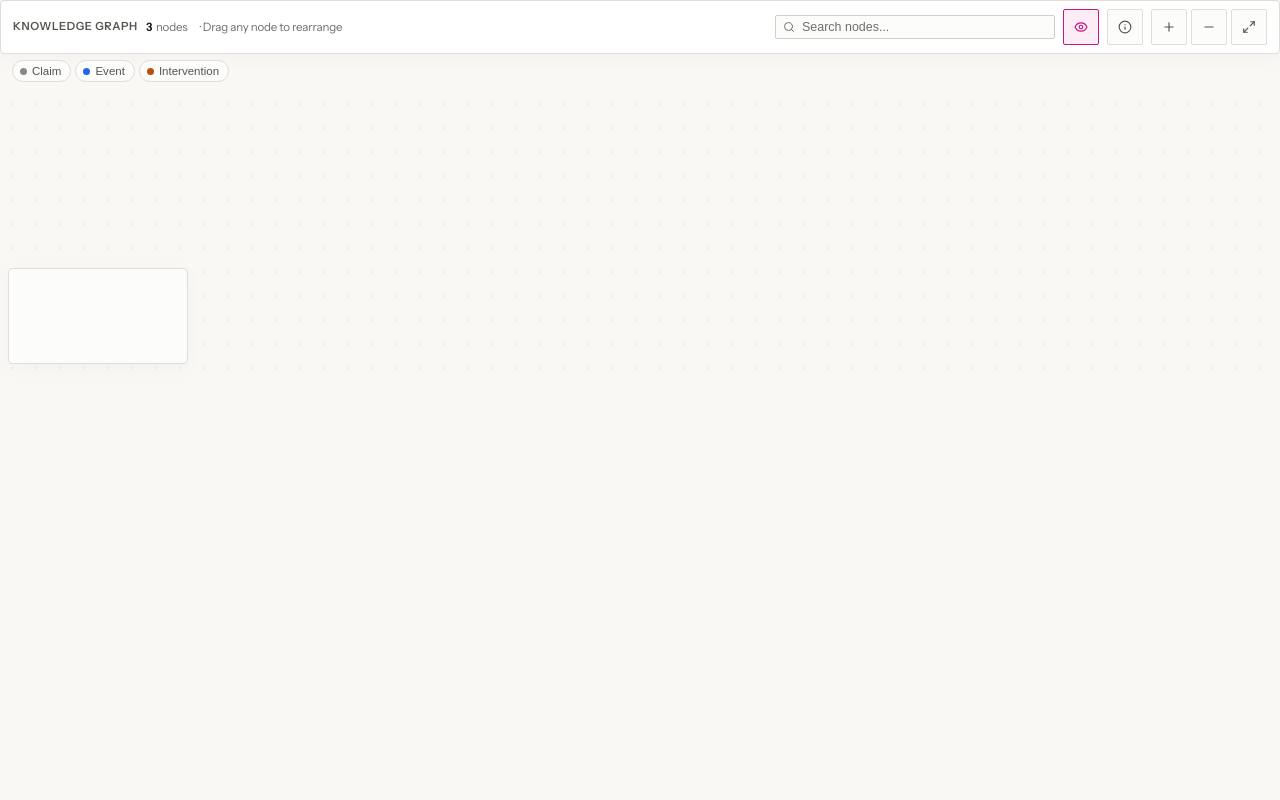
Test: KGGraphBoard › Editorial visual layer (Phase 2) › renders legend with outcome and icons
Click the button with test id "kg-graph-board-legend-toggle" at (1125, 27), box [1107,9,1143,45]
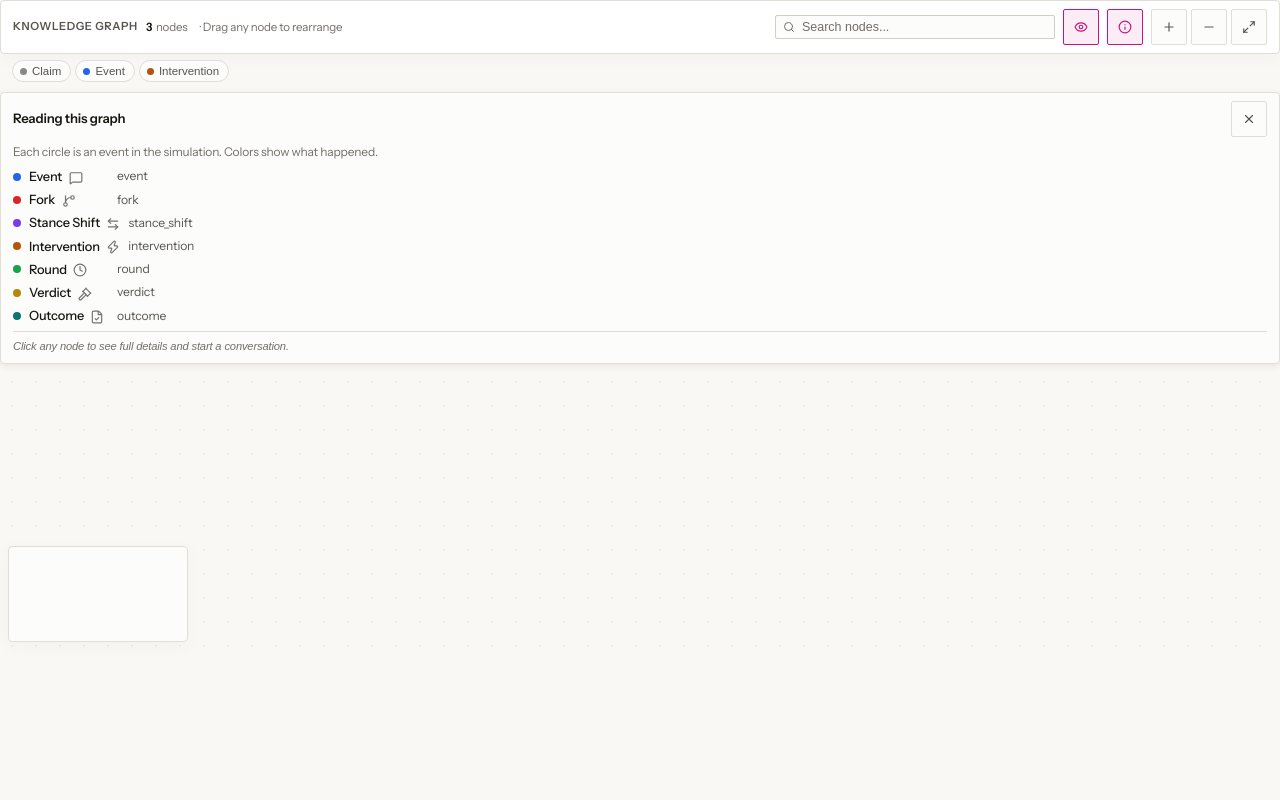
Result: the element with test id "kg-graph-board-legend" is shown at [0,92,1279,364]
Result: the text "Outcome" is shown at [29,306,109,325]
Result: the icon with class "lucide-message-square" is shown at [68,171,82,185]
